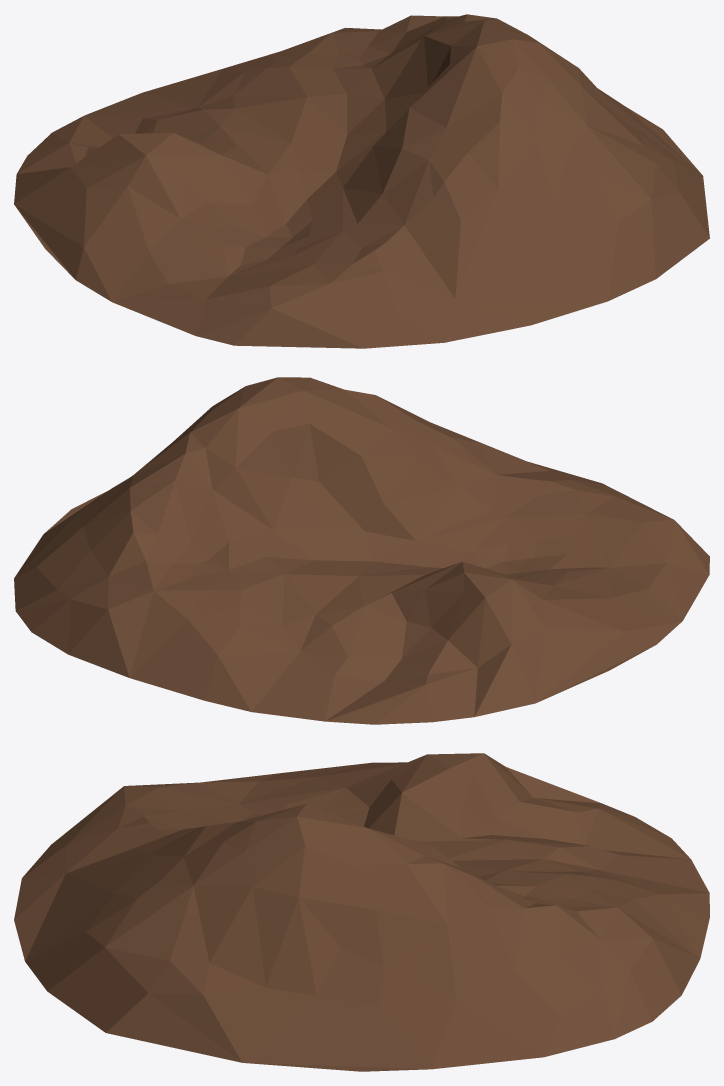
The model's file is Landscape 2.fbx.
The picture shows the model from 3 angles, top to bottom: view 1: azimuth 30°, elevation 25°; view 2: azimuth 150°, elevation 25°; view 3: azimuth 270°, elevation 25°; orthographic projection. The views are drawn at different scales.
Parts seen in each view (by area): view 1: Окружность.017; view 2: Окружность.017; view 3: Окружность.017.
Part boxes in pixels (<box>): Окружность.017: <box>14,14,709,348</box>; Окружность.017: <box>14,377,709,724</box>; Окружность.017: <box>14,753,709,1071</box>.
Bounding box in the file's own units: 7.64 × 7.47 × 1.93.
